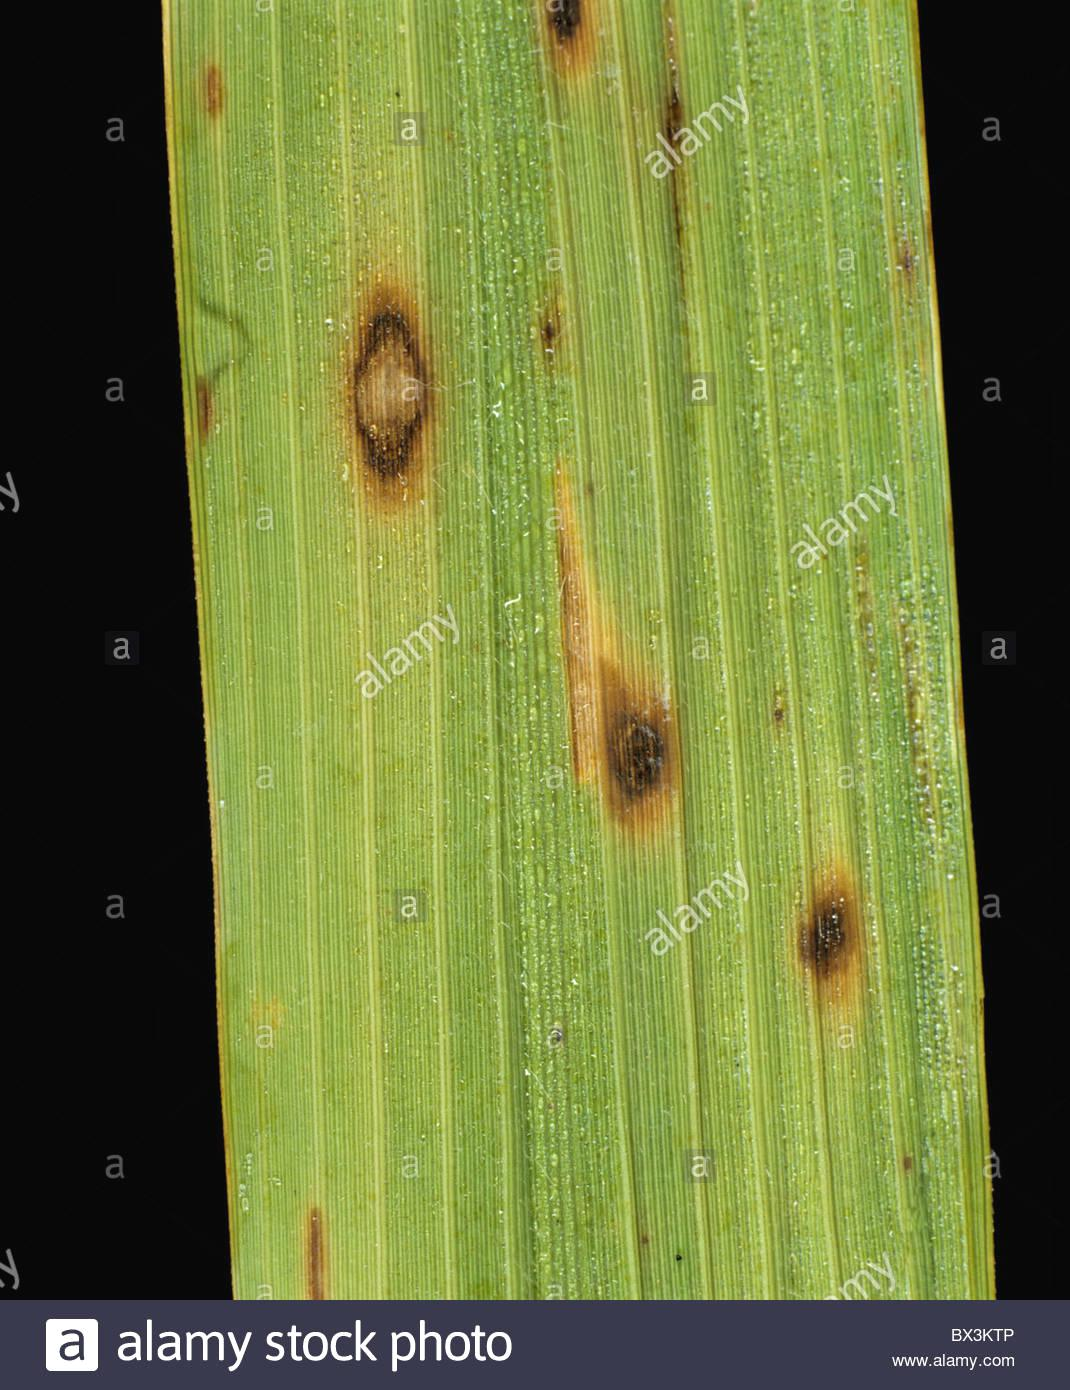0 BrownSpot: (523, 561, 702, 837), (326, 264, 472, 524), (782, 848, 878, 1041), (531, 1, 628, 113), (281, 1184, 364, 1306), (182, 365, 241, 462), (185, 44, 226, 130), (528, 276, 566, 367)
